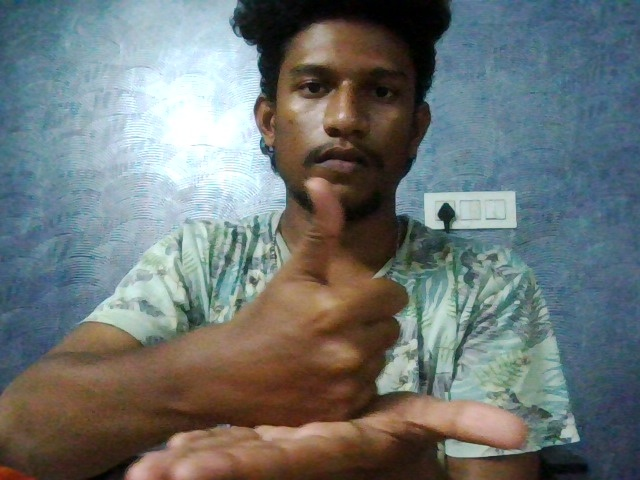help: (100, 168, 533, 480)
